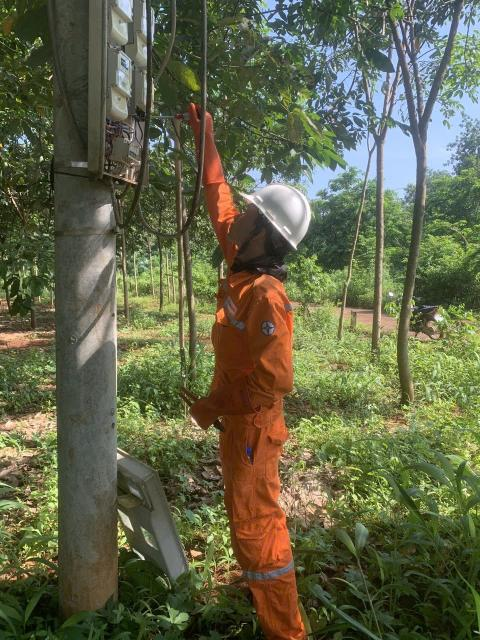gloves: (172, 380, 262, 437), (179, 99, 234, 190)
helmet: (233, 170, 334, 250)
